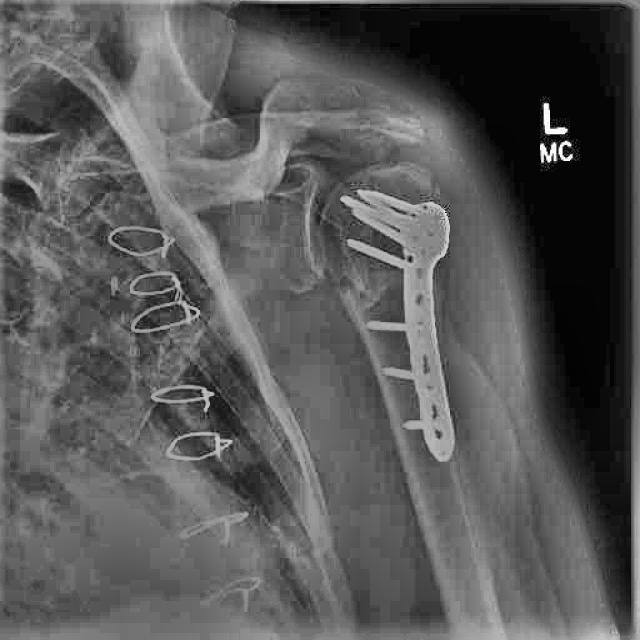shoulder fracture: (313, 264, 400, 330)
